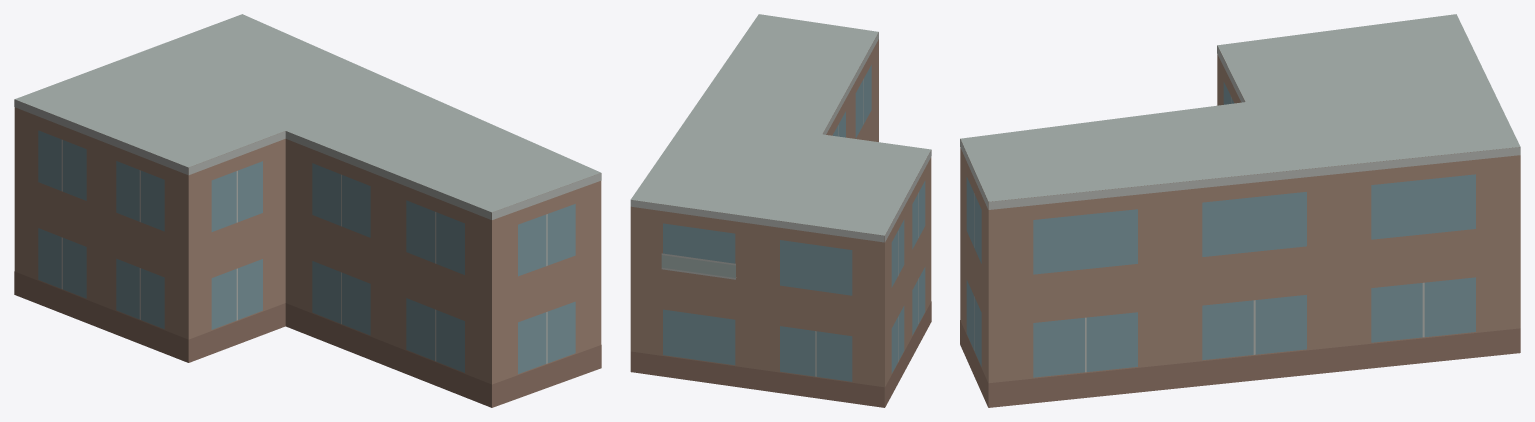
Rendered from survey-upis-32723082.glb.
3 views of the same model, side by side, from view 1: azimuth 30°, elevation 25°; view 2: azimuth 150°, elevation 25°; view 3: azimuth 270°, elevation 25° (orthographic). The views are drawn at different scales.
Parts seen in each view (by area): view 1: survey-upis-32723082.tmp; view 2: survey-upis-32723082.tmp; view 3: survey-upis-32723082.tmp.
Boxes of the visible parts, x1,y1,x2,y2 form: survey-upis-32723082.tmp: [14, 14, 601, 407]; survey-upis-32723082.tmp: [630, 14, 931, 407]; survey-upis-32723082.tmp: [960, 14, 1520, 407].
Bounding box in the file's own units: 11.93 × 6.1 × 15.05.
